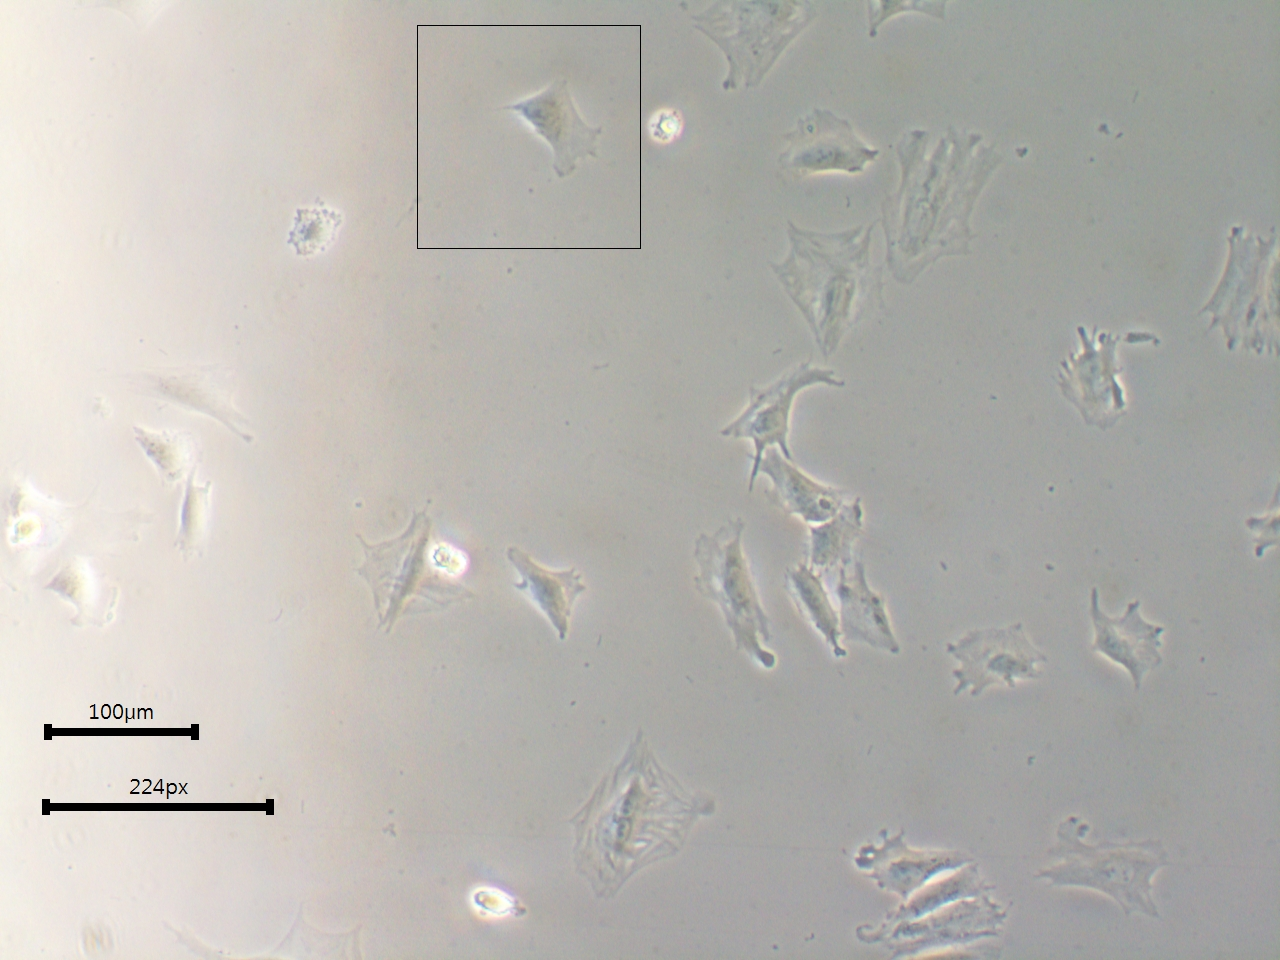dividing: (552, 714, 726, 897)
medium-polygonal: (1035, 818, 1183, 925), (714, 367, 850, 455), (503, 542, 594, 646)
medium-spread: (331, 497, 488, 653), (768, 222, 892, 359), (688, 521, 770, 683), (509, 78, 607, 188), (1086, 585, 1178, 701), (939, 620, 1052, 711), (772, 103, 881, 187), (1054, 324, 1126, 442)
